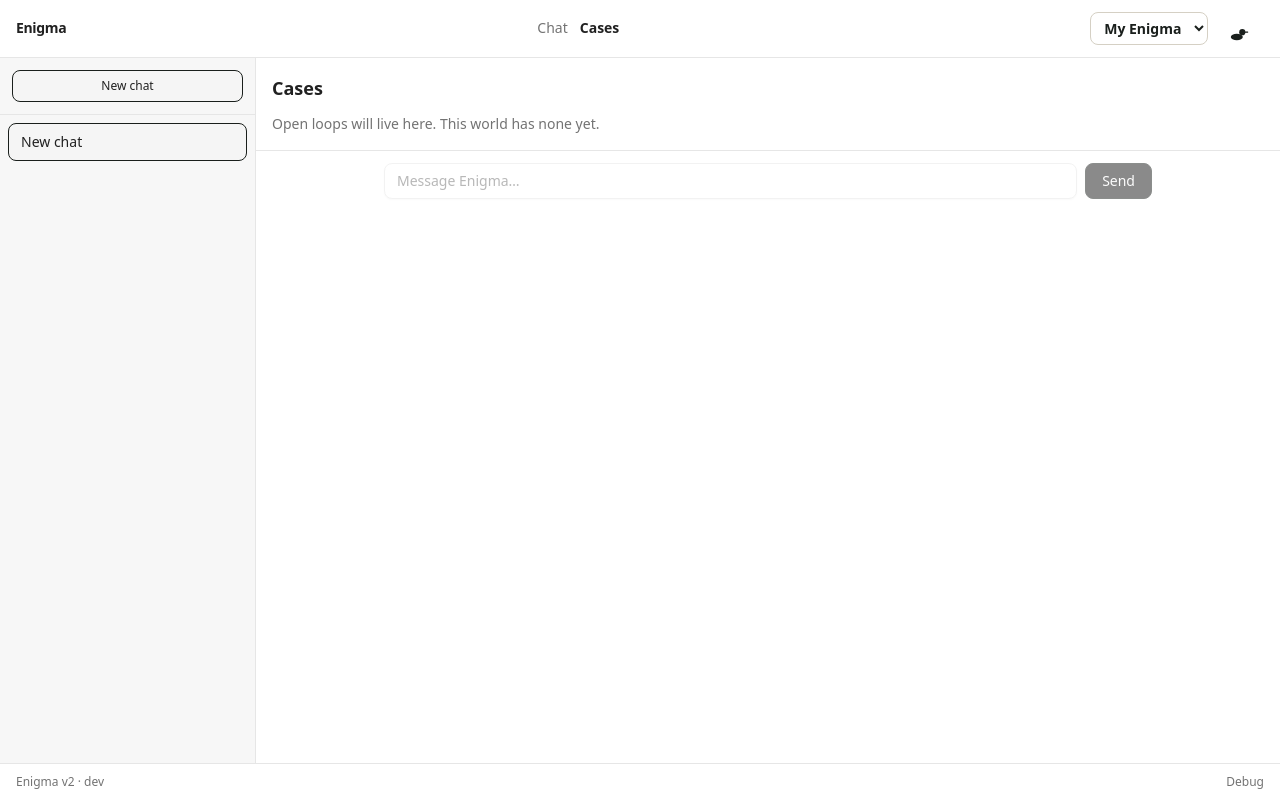
Scenario: UI2-06 world isolation (v2 shell) › CASE_01 — case selected in world A cannot remain selected as if valid in B
Select "Alex Lab" in the 1st dropdown with test id "world-switcher" at (1149, 28), box [1090,12,1208,45]
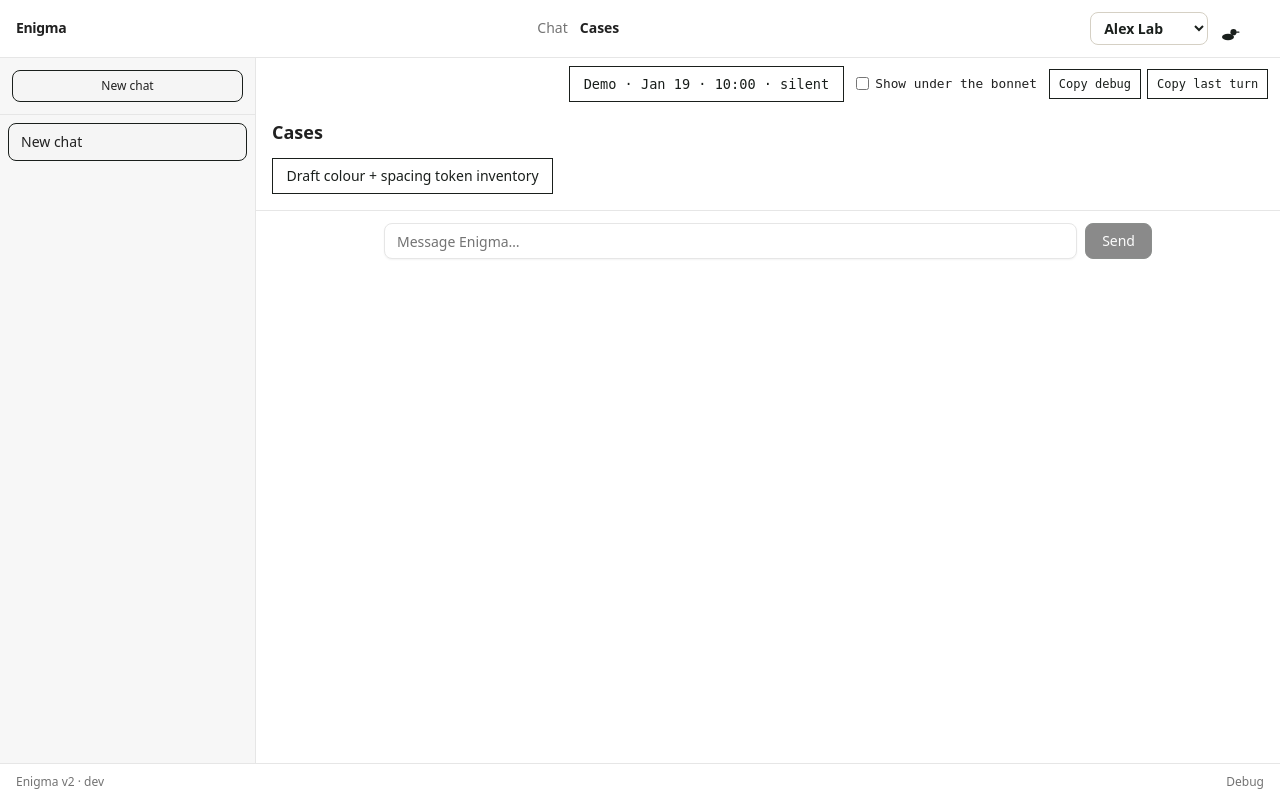
Result: the dropdown with test id "world-switcher" shows "Alex Lab" at [1090,12,1208,45]
Click the button "Draft colour + spacing token inventory" at (413, 176), box [272,158,553,194]
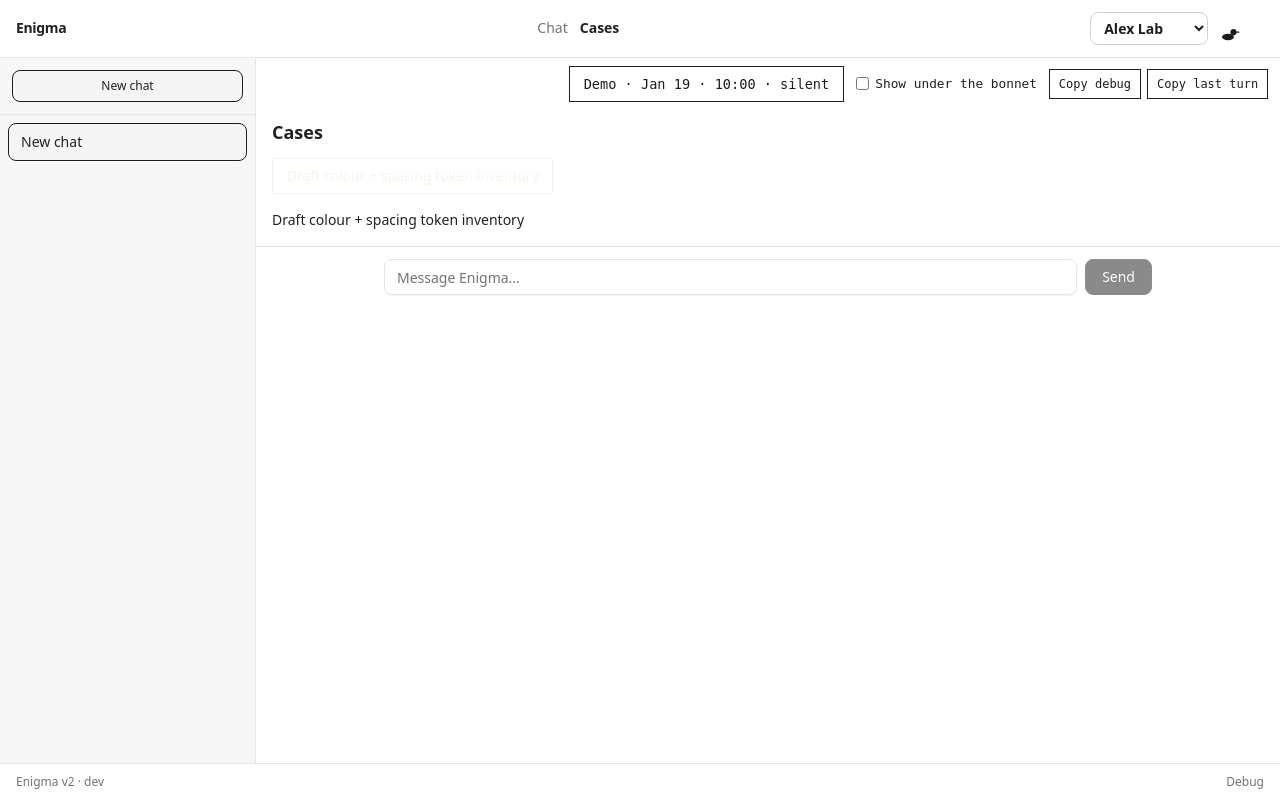
Select "My Enigma" in the 1st dropdown with test id "world-switcher" at (1149, 28), box [1090,12,1208,45]
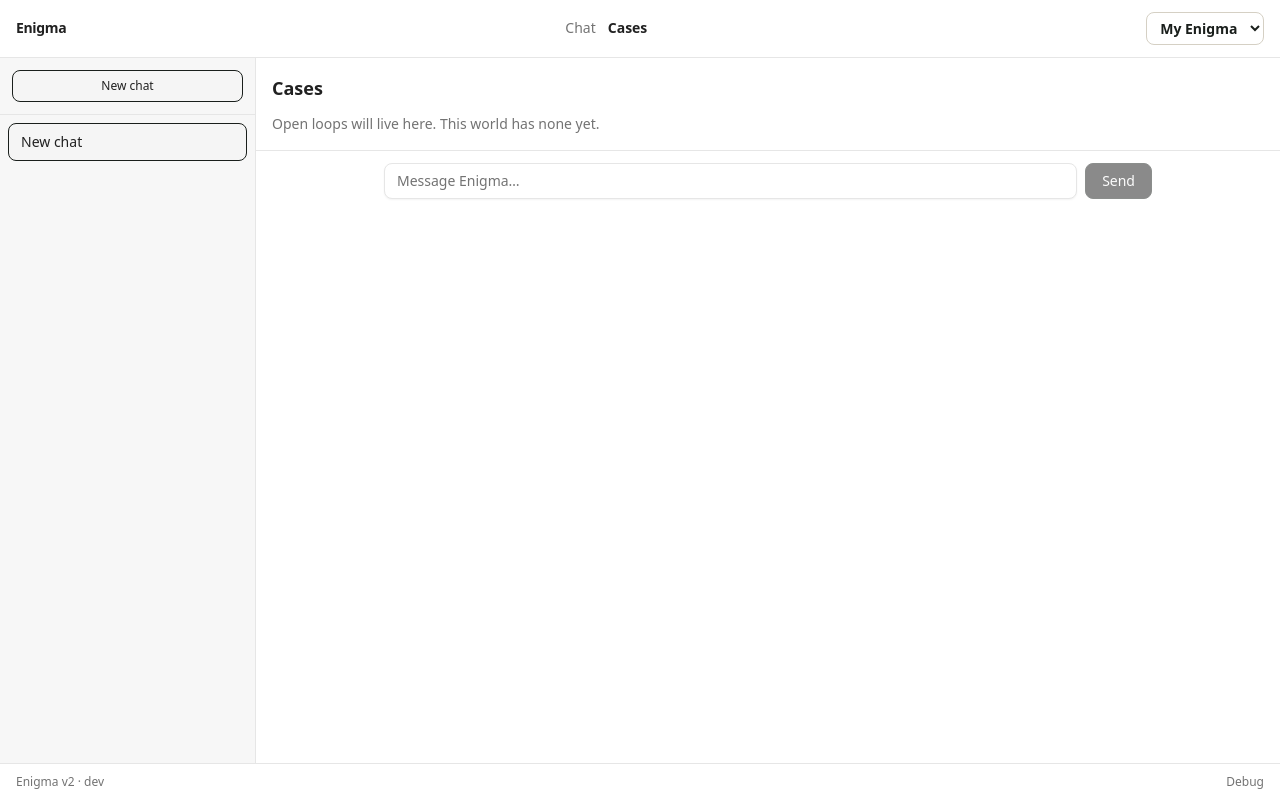
Result: the dropdown with test id "world-switcher" shows "My Enigma" at [1146,12,1264,45]
Result: the text with test id "selected-case" is gone
Result: the text "Open loops will live here. This world has none yet." is shown at [272,114,600,133]
